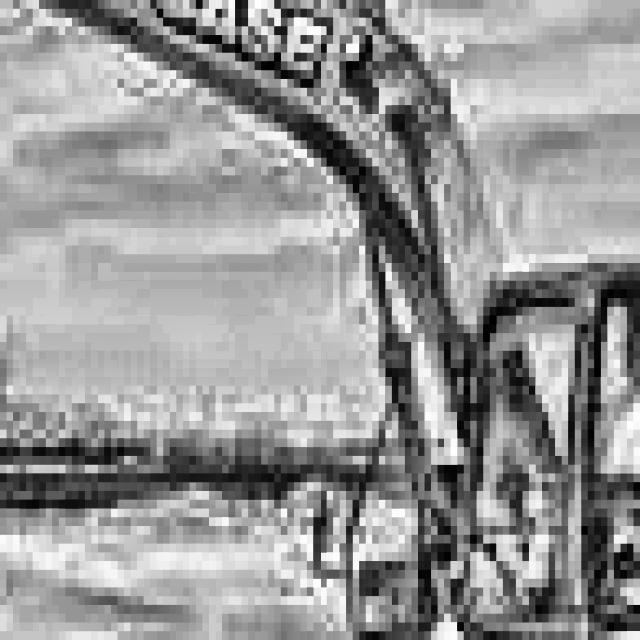excavator: (241, 245, 640, 639)
